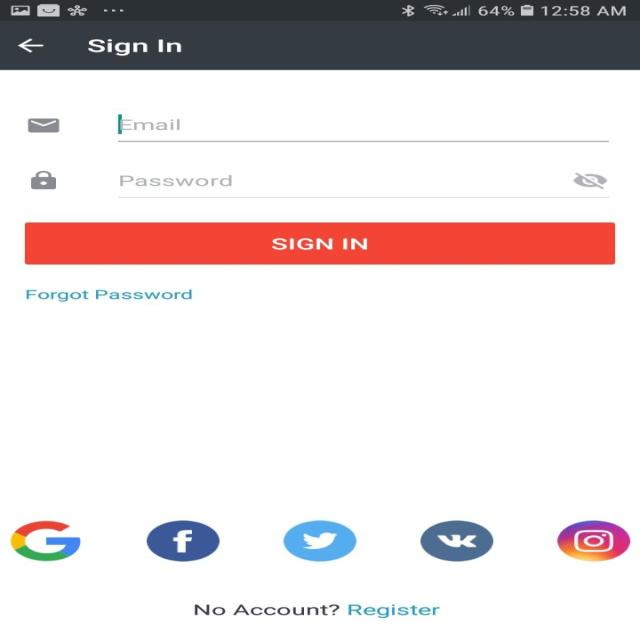EditText: (117, 114, 608, 142), (117, 172, 609, 199)
Icon: (146, 520, 220, 561), (282, 520, 356, 561), (10, 520, 81, 561), (572, 172, 608, 189), (30, 170, 56, 190), (27, 118, 59, 132), (16, 38, 44, 53)
Image: (419, 520, 494, 561), (556, 520, 630, 561)
Text: (194, 604, 440, 618), (26, 289, 192, 302), (87, 38, 181, 56), (119, 174, 232, 187), (119, 118, 181, 131)
TextButton: (24, 222, 615, 264)
